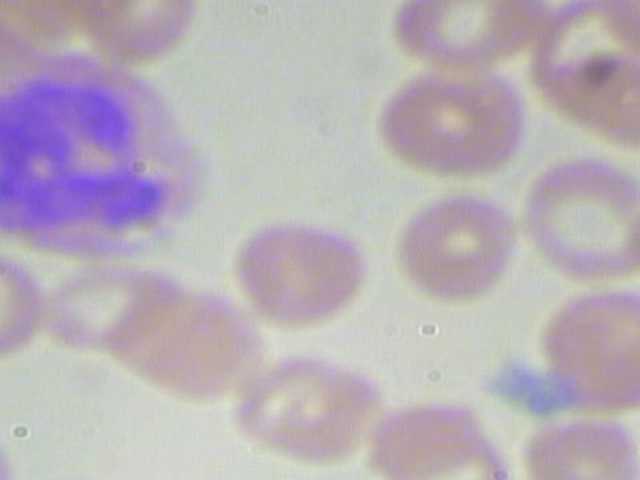WBC: (0, 51, 234, 265)
